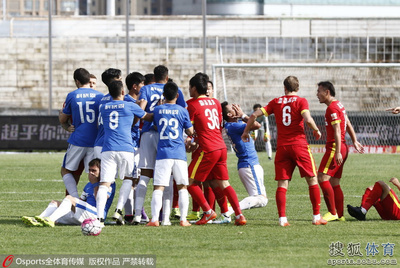10+: (21, 59, 400, 228)
down: (21, 156, 116, 227), (347, 174, 400, 218)
